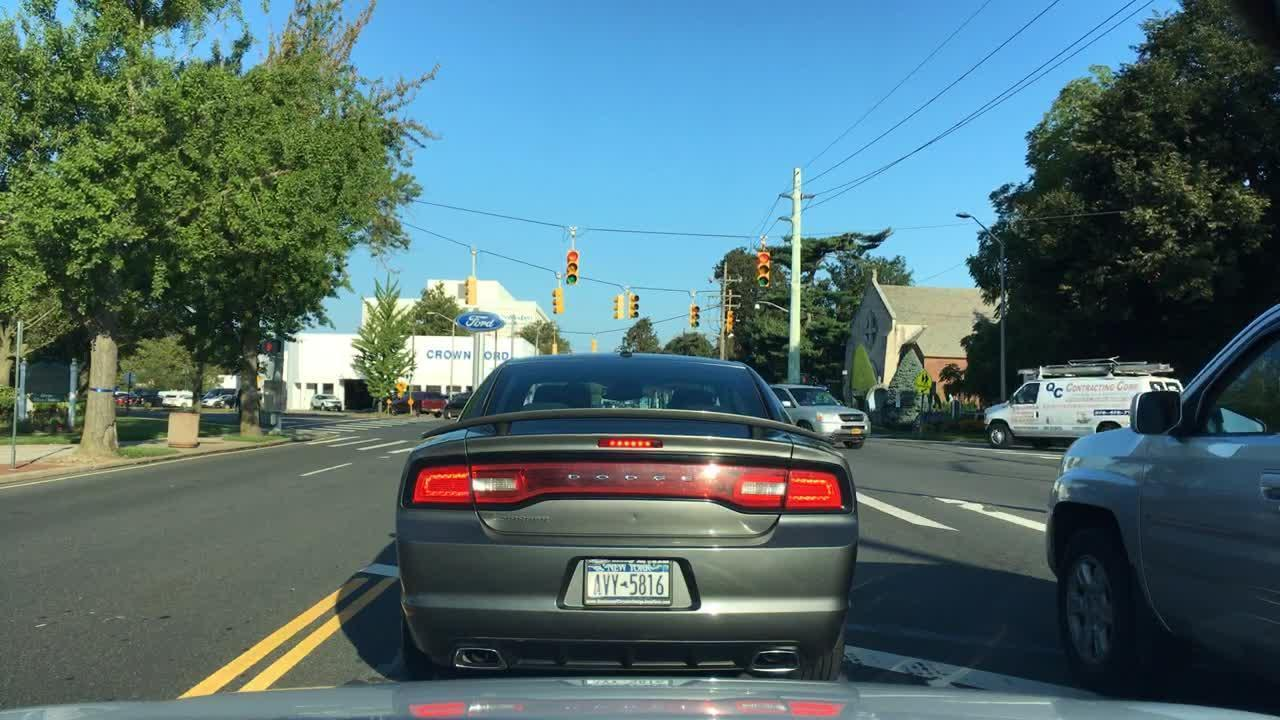dodge: (556, 463, 712, 497)
